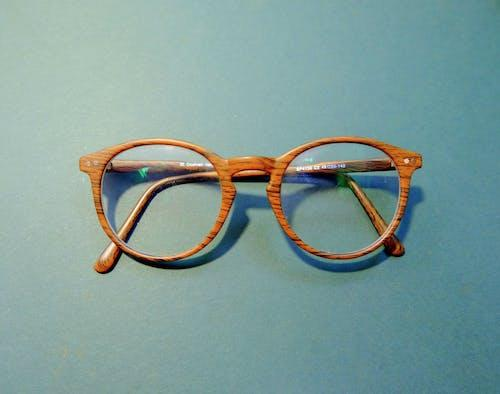eyeglasses: (61, 131, 442, 278)
